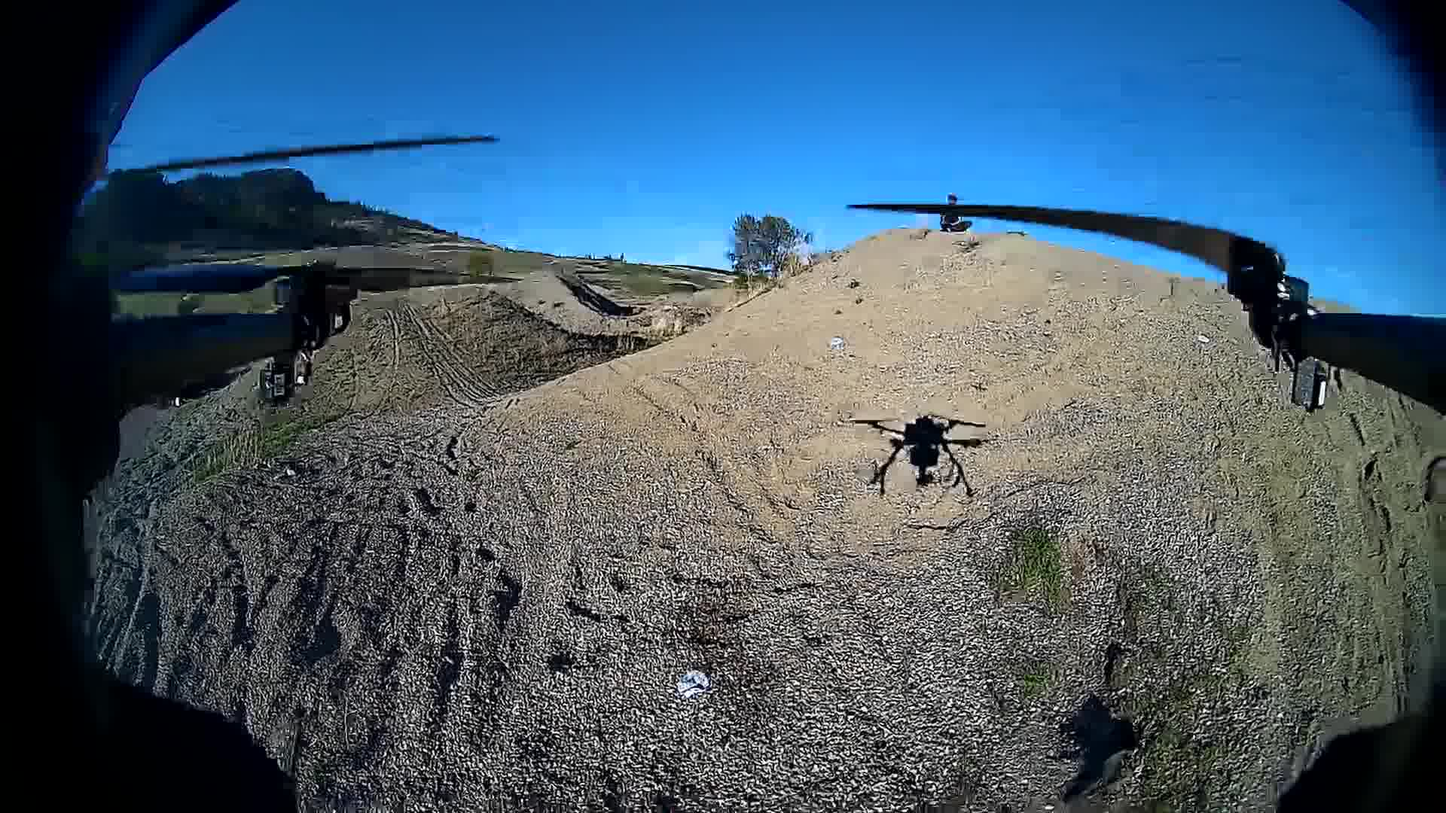Target: (678, 671, 705, 696)
